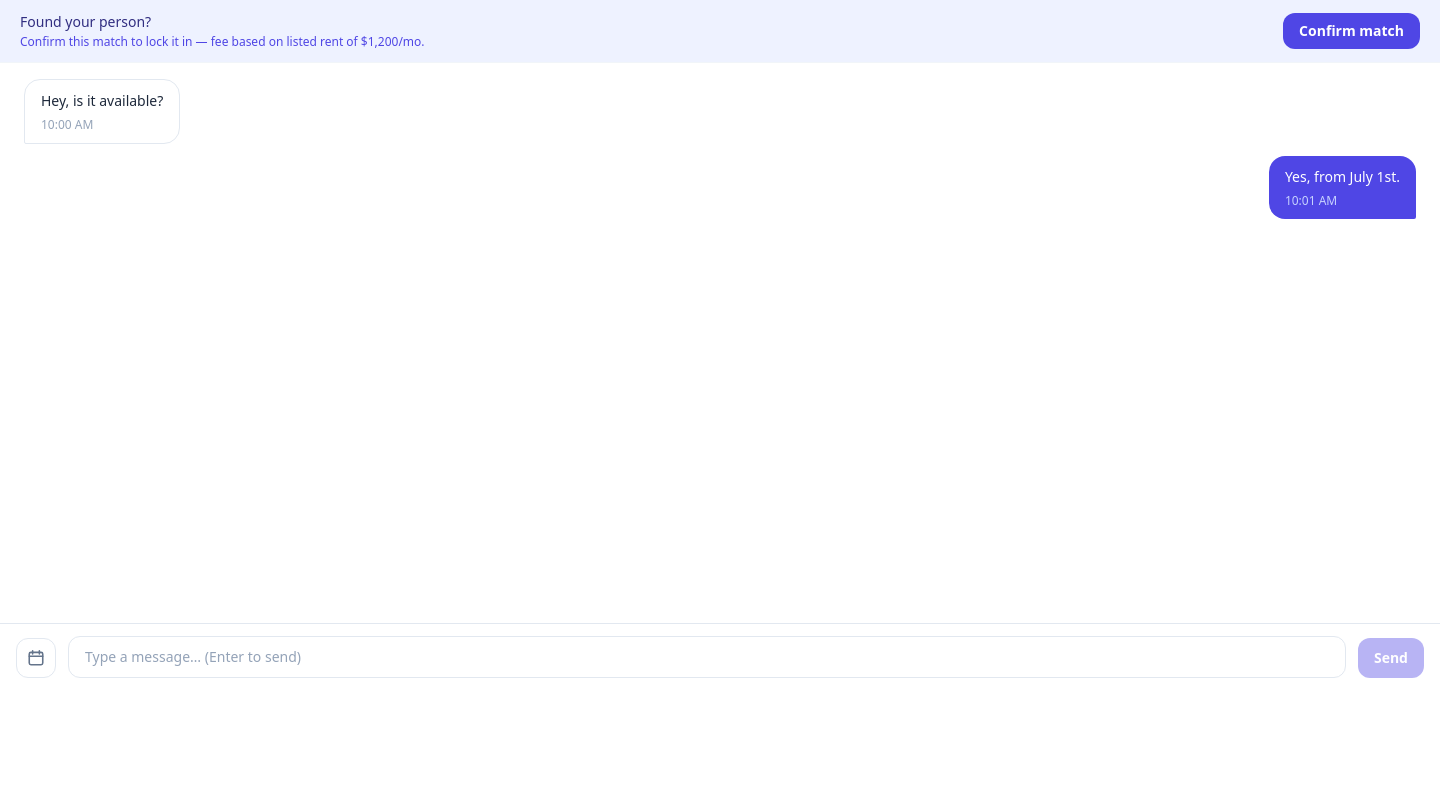
Test case: submitting a viewing proposal › closes the modal and refreshes messages on success
Click the button named "propose a time".
click(36, 658)  # box [16, 638, 56, 678]
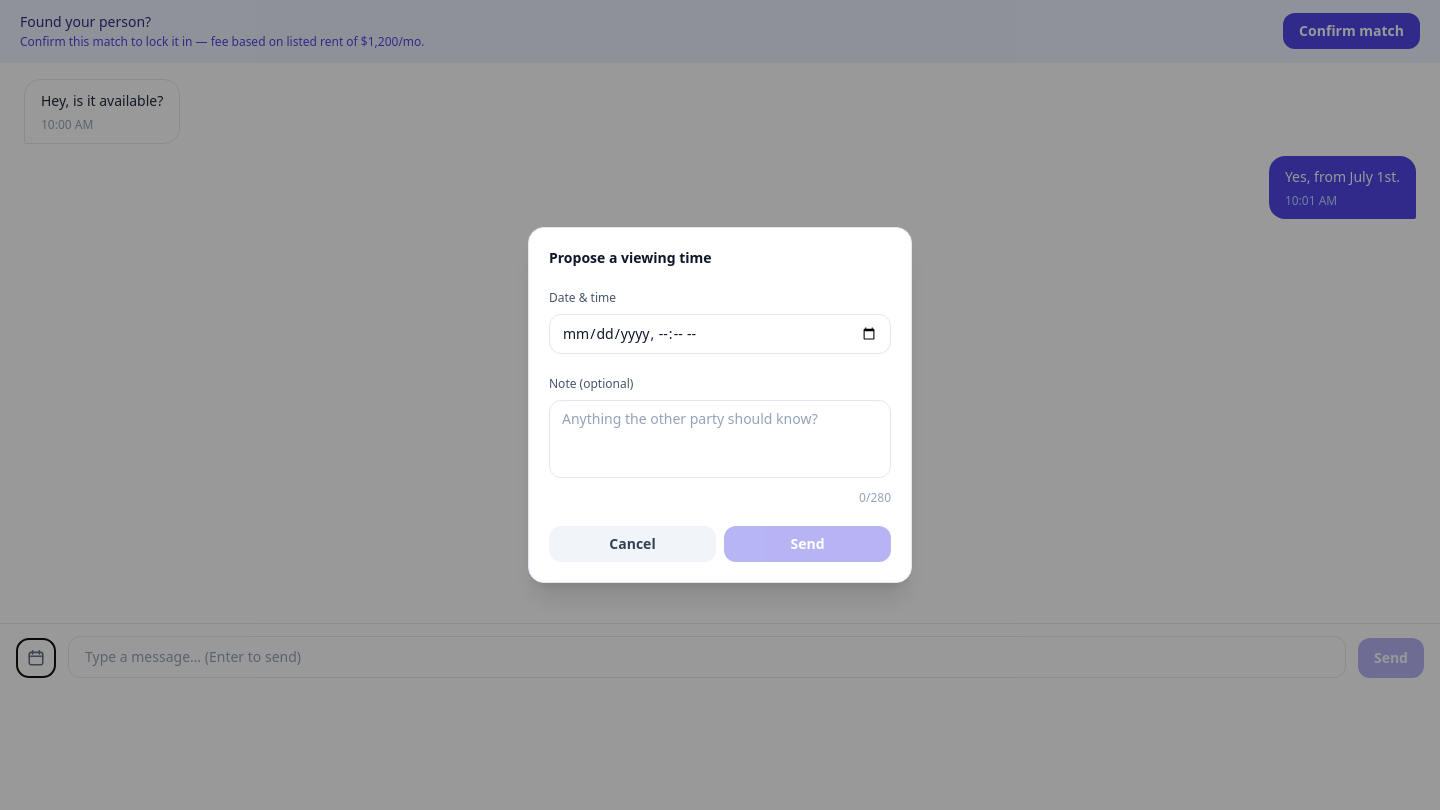
Type "2026-07-05T18:30" into the field labelled "Date & time".
click(720, 334); type("2026-07-05T18:30")  # box [549, 314, 891, 354]
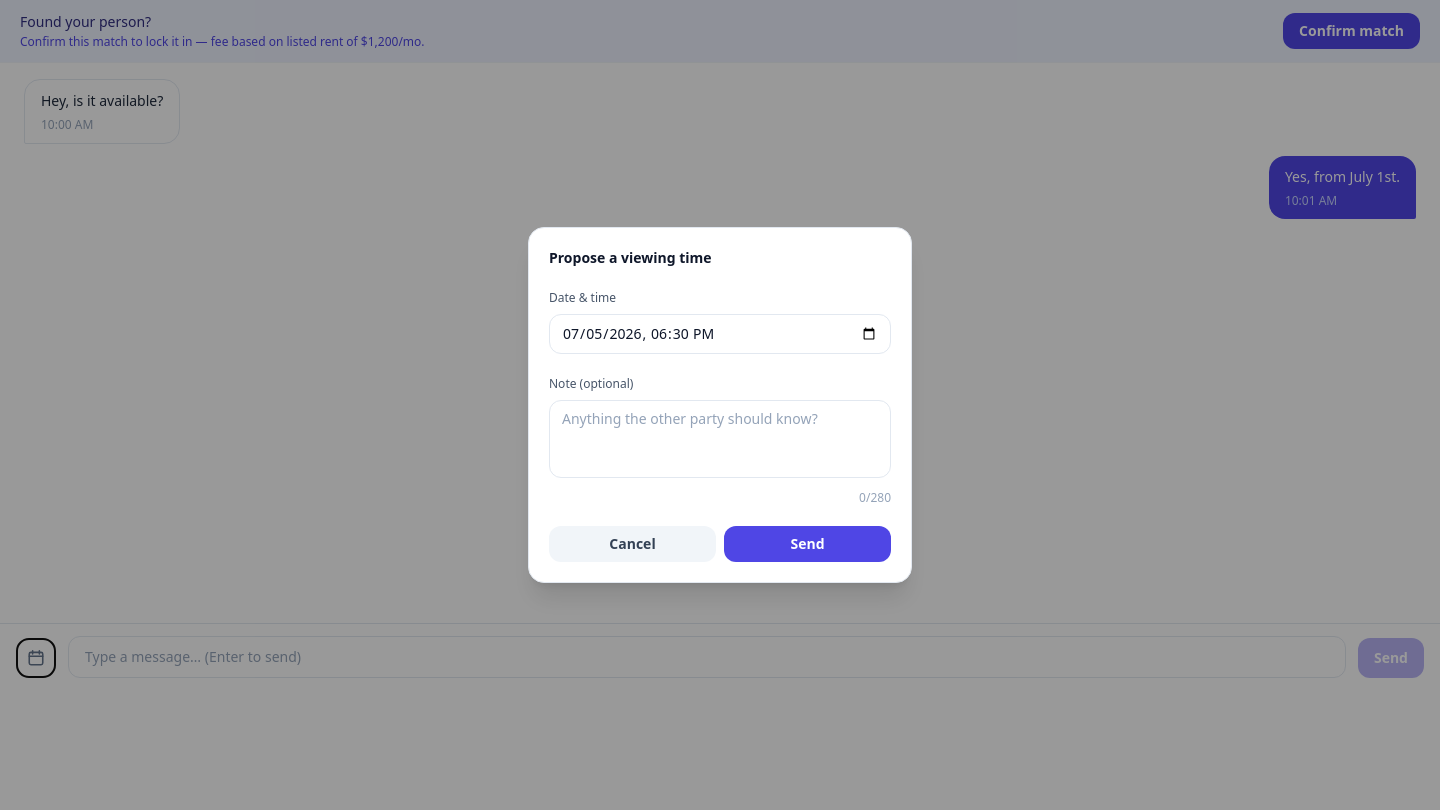
Click the button "Send".
click(808, 544)  # box [724, 526, 891, 562]
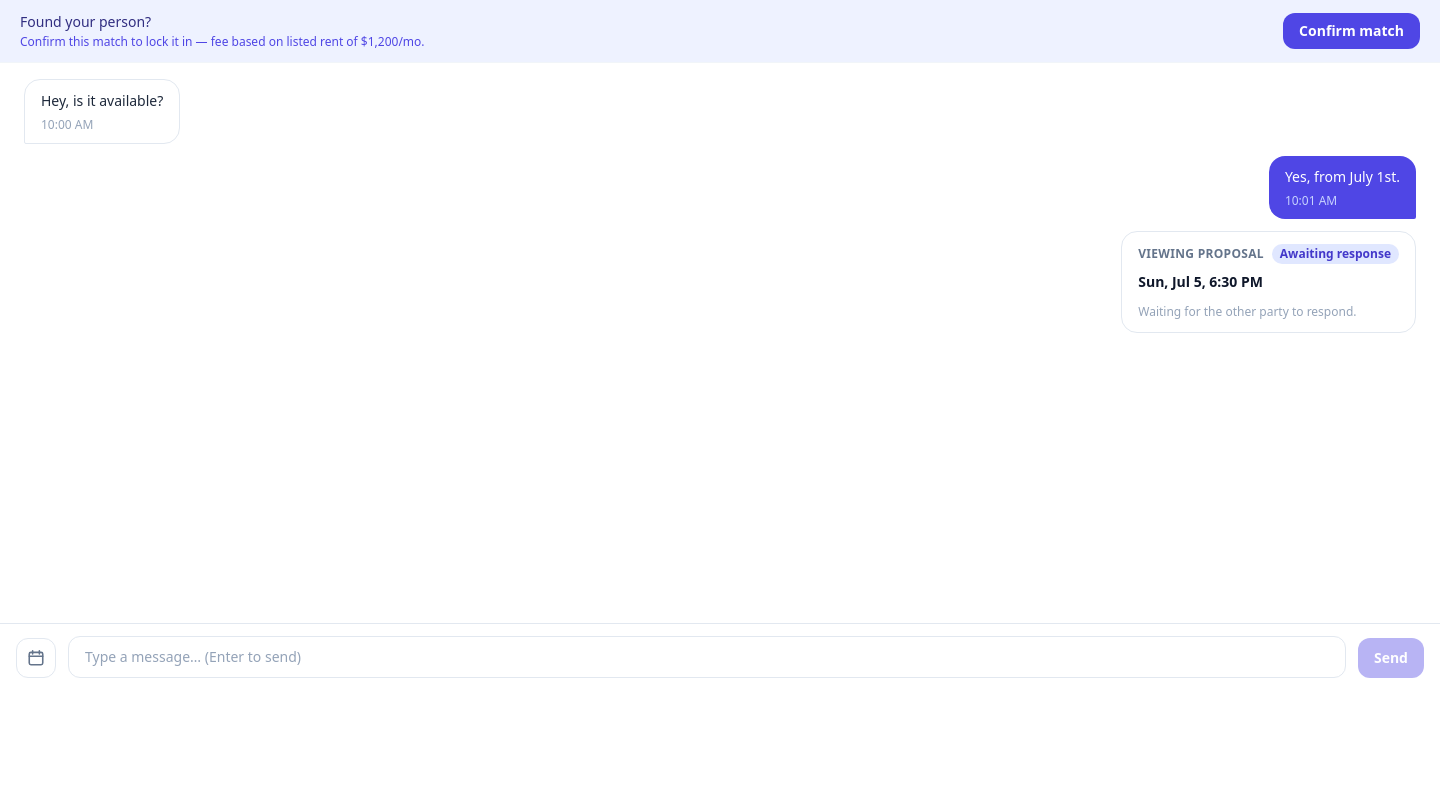
Result: the heading "Propose a viewing time" is gone
